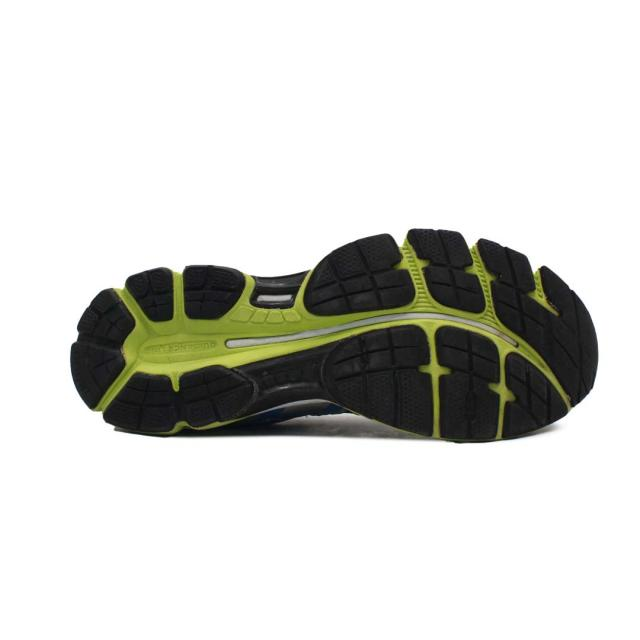outersole: (73, 231, 600, 444)
